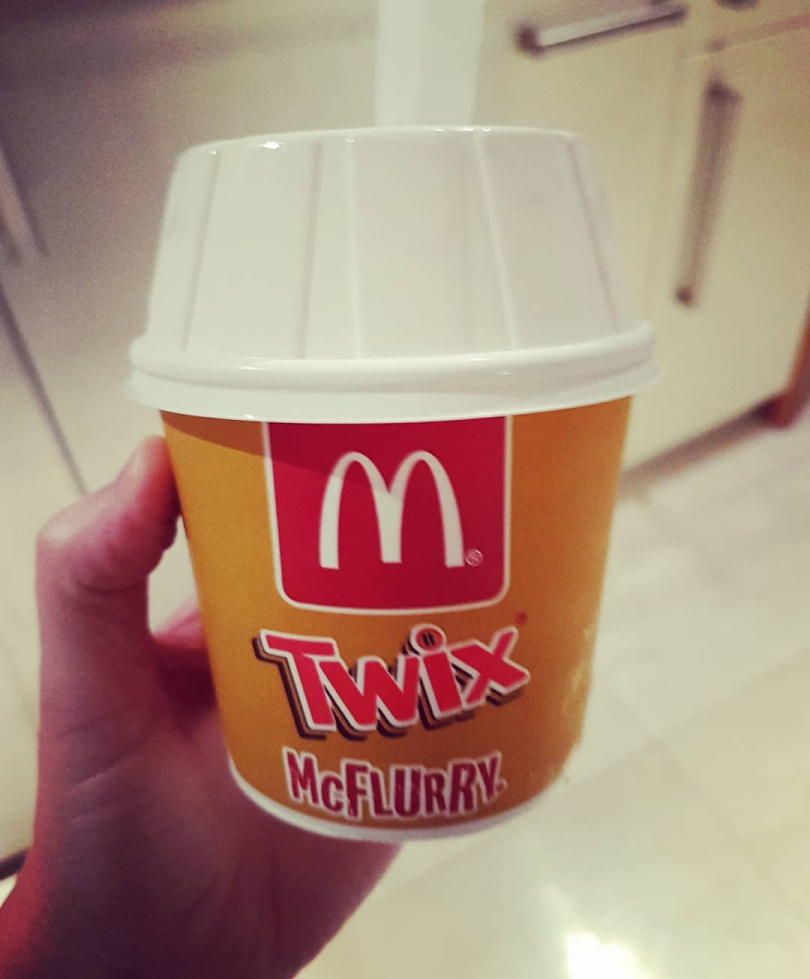mcdonalds: (311, 439, 477, 592)
